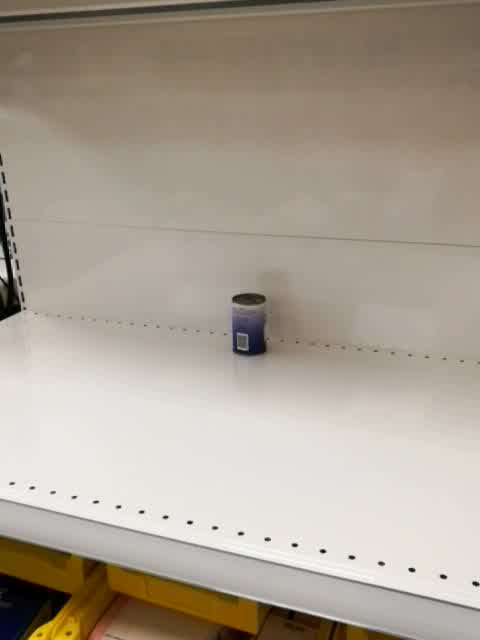sardine: (230, 292, 269, 358)
